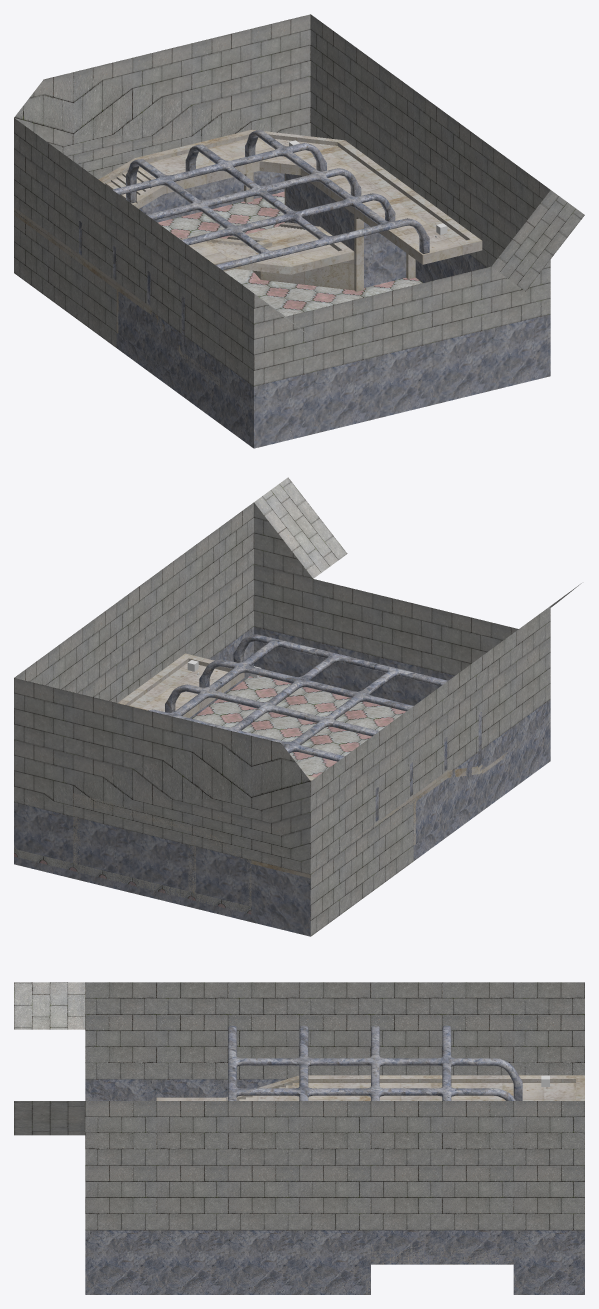
The model's file is map.gltf.
3 renders of one model, top to bottom at view 1: azimuth 30°, elevation 25°; view 2: azimuth 150°, elevation 25°; view 3: azimuth 270°, elevation 25°, orthographic. The views are drawn at different scales.
Visible parts, largest first — view 1: Object5, DarkWall, Stairs, Object7, Object8; view 2: Object5, DarkWall, Object8, Object7, Stairs; view 3: Object5, DarkWall, Stairs, Object7.
Part boxes in pixels (left/top/right/bottom): Object5: left=14, top=14, right=584, bottom=386; DarkWall: left=116, top=171, right=550, bottom=448; Stairs: left=14, top=129, right=482, bottom=386; Object7: left=79, top=130, right=429, bottom=349; Object8: left=157, top=191, right=422, bottom=316; Object5: left=14, top=477, right=581, bottom=936; DarkWall: left=14, top=626, right=550, bottom=936; Object8: left=14, top=676, right=405, bottom=914; Object7: left=148, top=634, right=481, bottom=821; Stairs: left=73, top=653, right=507, bottom=906; Object5: left=14, top=982, right=584, bottom=1230; DarkWall: left=85, top=1079, right=584, bottom=1294; Stairs: left=156, top=1075, right=584, bottom=1294; Object7: left=228, top=1025, right=522, bottom=1100.
Bounding box in the file's own units: 43.23 × 27 × 69.12.
